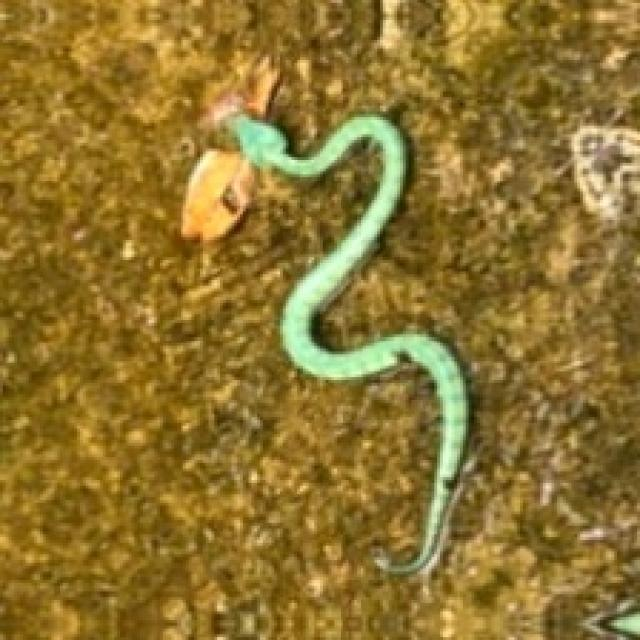north ph temple pitviper: (180, 111, 466, 571)
